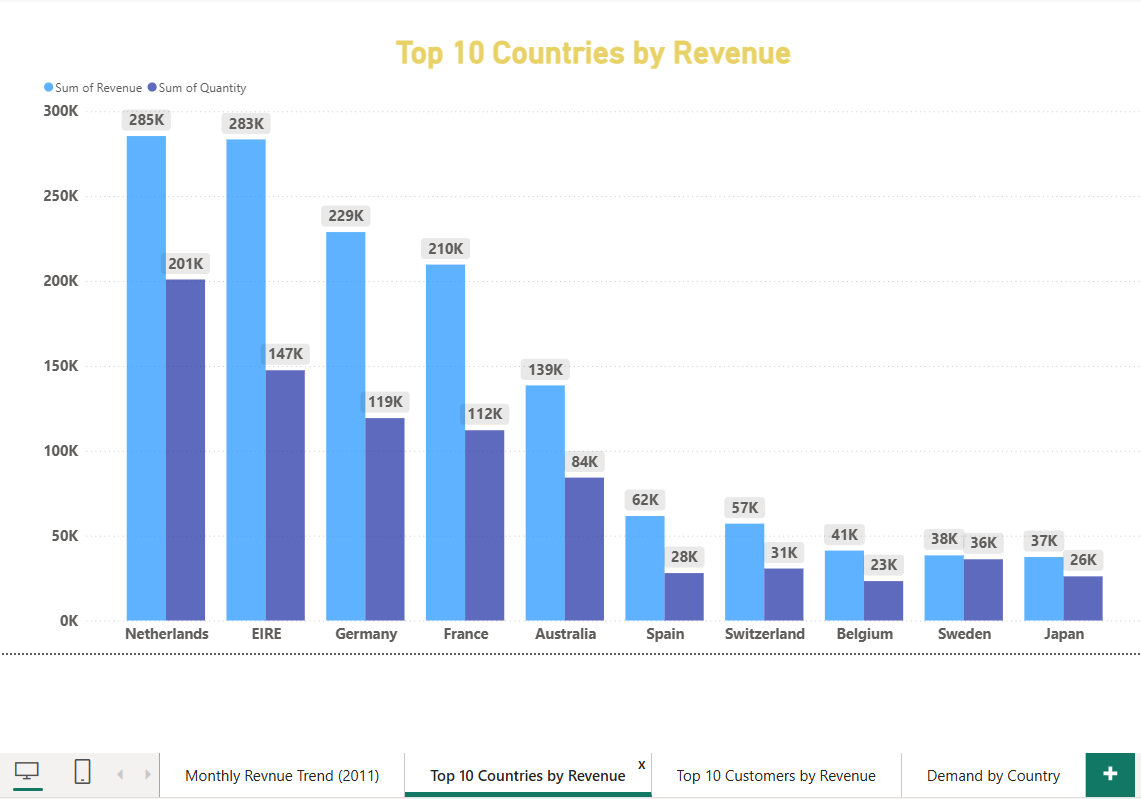

Layout of this report page (visuals, bound fields, positions):
{"tool":"powerbi","page":{"name":"Top 10 Countries by Revenue","canvas":[1280,720],"ordinal":1},"visuals":[{"type":"clusteredColumnChart","title":"Top 10 Countries by Revenue","fields":{"Category":["Online Retail.Country"],"Y":["Sum(Online Retail.Revenue)","Sum(Online Retail.Quantity)"]},"box":[42.5,41.2,1218.5,679.2],"z":0}]}

Visuals, with their boxes on the page's 1280x720 design canvas (x1, y1, x2, y2). These are canvas units, not pixel positions in the 1141x799 screenshot, which may show the page scaled, cropped or inside an application window:
"Top 10 Countries by Revenue" clusteredColumnChart: [x1=42, y1=41, x2=1261, y2=720]
